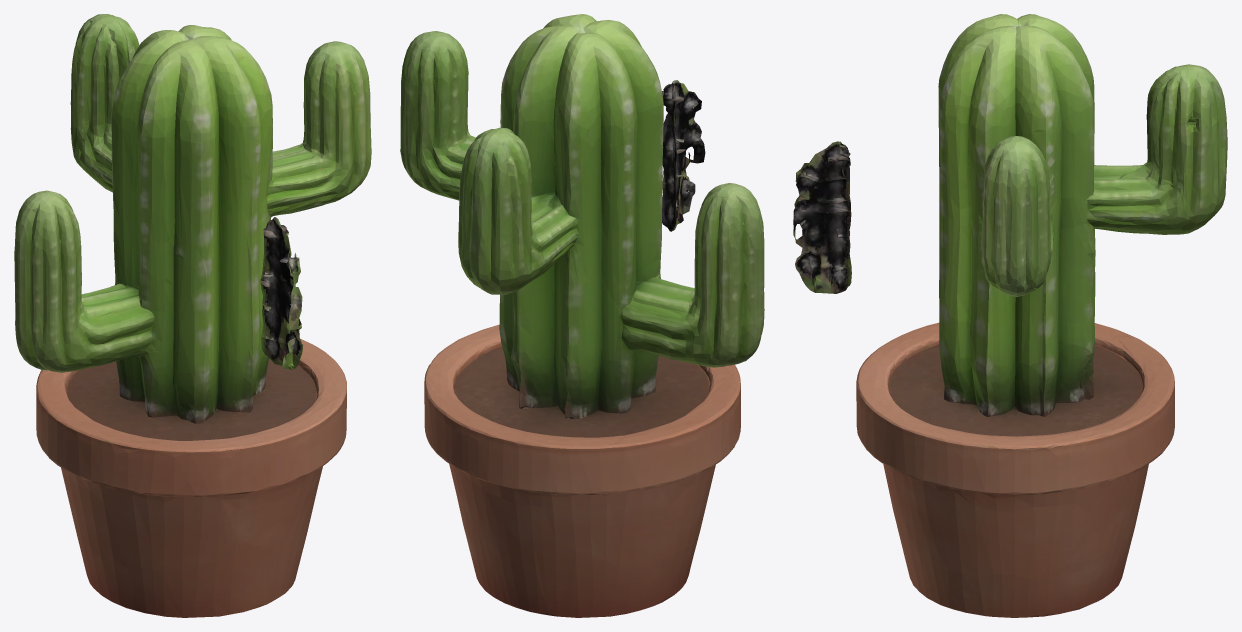
The model's file is cactus.glb.
The picture shows the model from 3 angles, left to right: view 1: azimuth 30°, elevation 25°; view 2: azimuth 150°, elevation 25°; view 3: azimuth 270°, elevation 25°; orthographic projection. The views are drawn at different scales.
Parts seen in each view (by area): view 1: geometry_0; view 2: geometry_0; view 3: geometry_0.
Part boxes in pixels (x1=…): geometry_0: x1=14, y1=14, x2=371, y2=617; geometry_0: x1=400, y1=14, x2=764, y2=617; geometry_0: x1=793, y1=14, x2=1227, y2=617.
Bounding box in the file's own units: 0.6817 × 0.9951 × 0.7122.
Materials: 1 (1 with a texture image).
